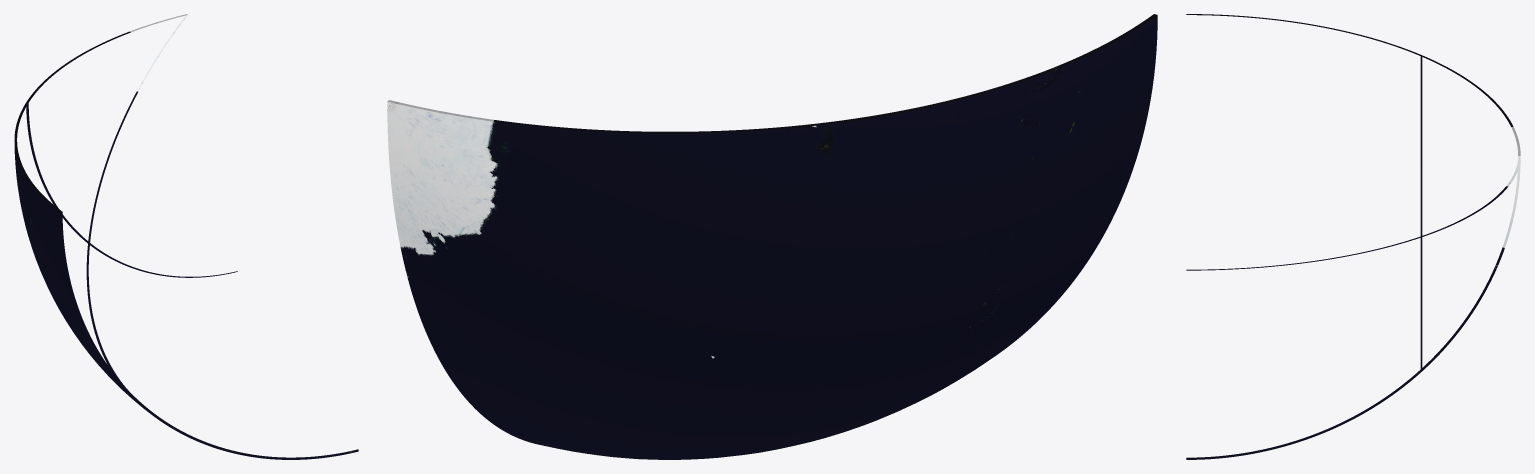
3 renders of one model, left to right at view 1: azimuth 30°, elevation 25°; view 2: azimuth 150°, elevation 25°; view 3: azimuth 270°, elevation 25°, orthographic. The views are drawn at different scales.
Parts seen in each view (by area): view 1: DefaultName.012, DefaultName.009, DefaultName.006, DefaultName.003; view 2: DefaultName.012, DefaultName.003, DefaultName.006, DefaultName.009; view 3: DefaultName.012, DefaultName.009, DefaultName.006, DefaultName.003.
Boxes of the visible parts, <box> form: DefaultName.012: <box>14,102,148,411</box>; DefaultName.009: <box>86,243,358,459</box>; DefaultName.006: <box>88,15,237,277</box>; DefaultName.003: <box>26,14,187,243</box>; DefaultName.012: <box>715,14,1157,386</box>; DefaultName.003: <box>387,100,816,356</box>; DefaultName.006: <box>387,102,714,413</box>; DefaultName.009: <box>470,344,1010,459</box>; DefaultName.012: <box>1186,14,1422,270</box>; DefaultName.009: <box>1186,237,1422,459</box>; DefaultName.006: <box>1420,156,1520,370</box>; DefaultName.003: <box>1421,55,1520,236</box>.
Size of the model in its own units: 63781 by 63781 by 63568.
Materials: 4 (4 with a texture image).
